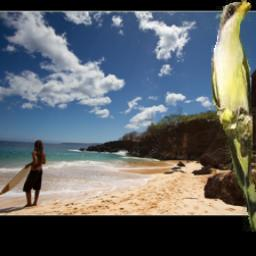Cuckoo: (213, 0, 256, 232)
